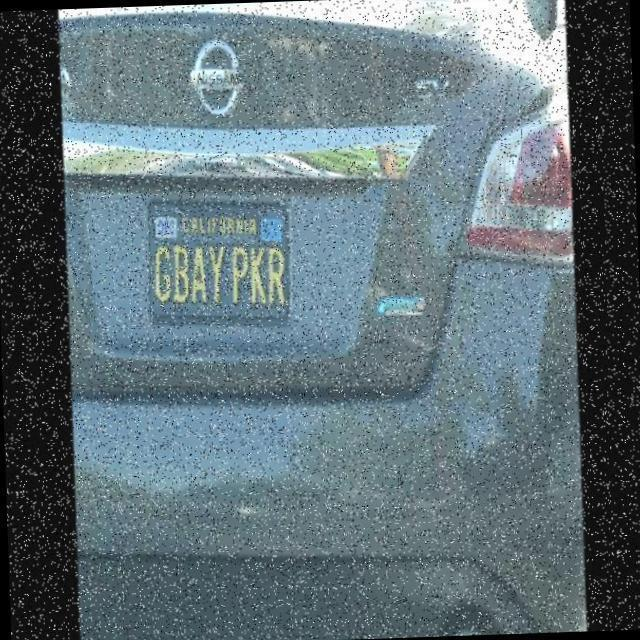license_plate: (146, 194, 294, 320)
